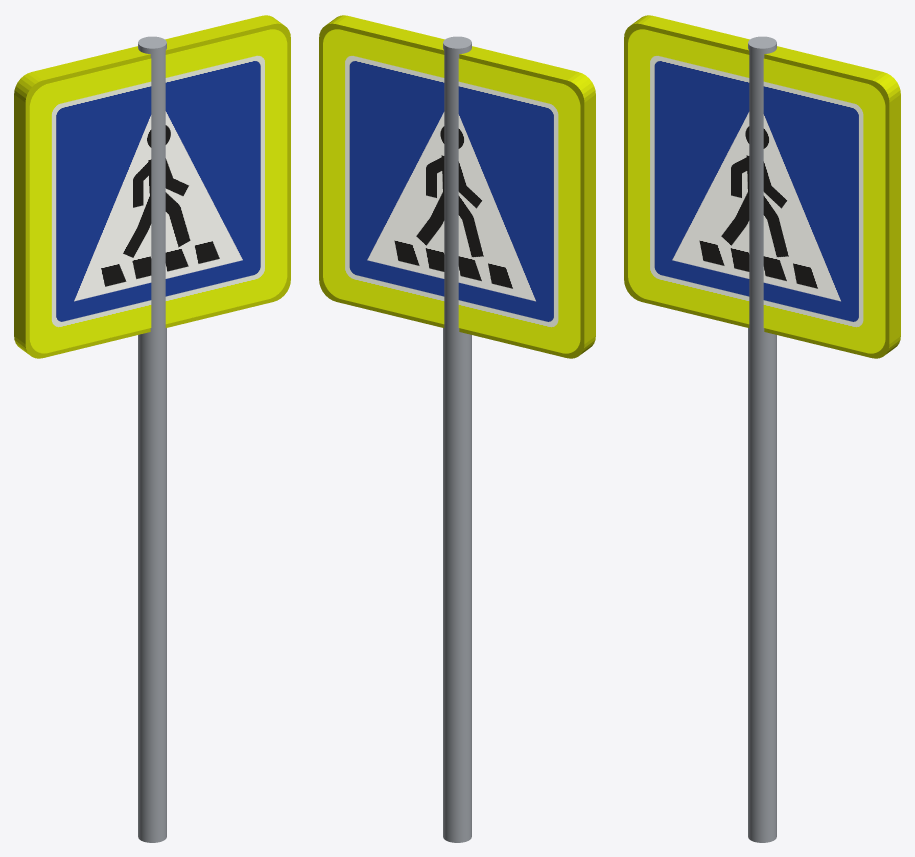
Rendered from pesh.glb.
The picture shows the model from 3 angles, left to right: view 1: azimuth 30°, elevation 25°; view 2: azimuth 150°, elevation 25°; view 3: azimuth 330°, elevation 25°; orthographic projection.
Visible parts, largest first — view 1: Pole and sign; view 2: Pole and sign; view 3: Pole and sign.
Part boxes in pixels (box(x1,y1,x2,y2)): Pole and sign: box(14, 15, 290, 842); Pole and sign: box(319, 15, 595, 842); Pole and sign: box(624, 15, 900, 842).
Bounding box in the file's own units: 1 × 2.86 × 0.094.
Materials: 3 (1 with a texture image).
